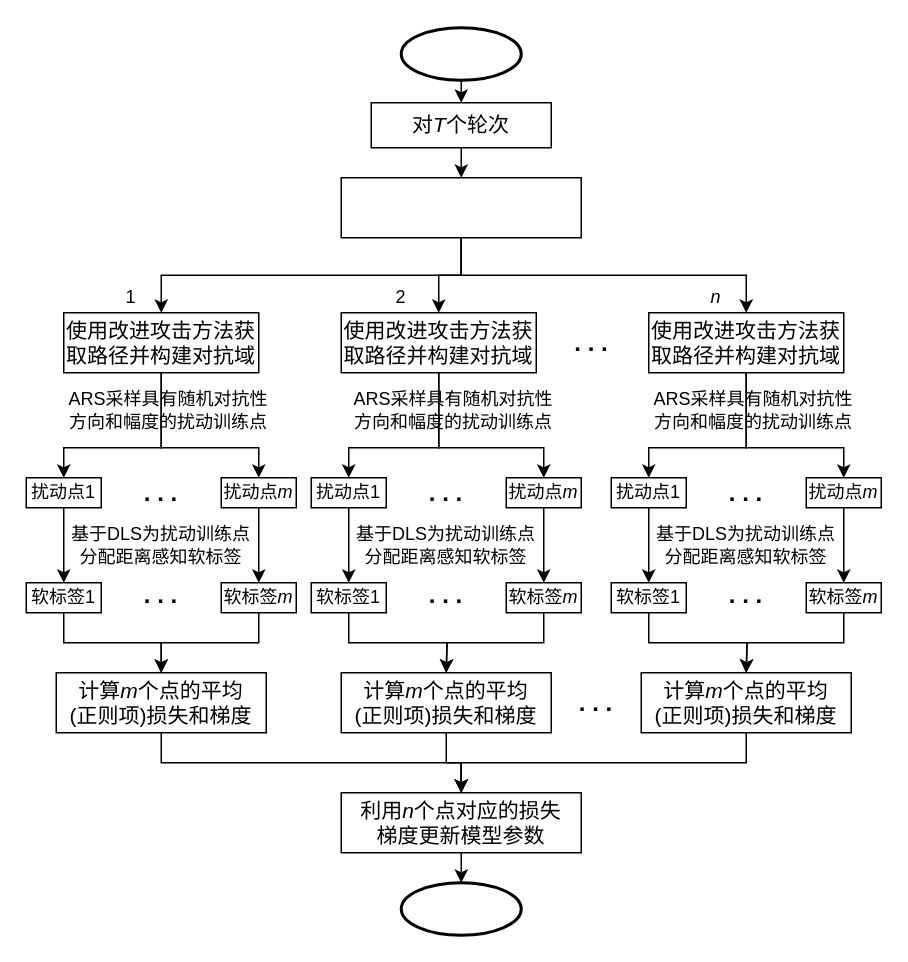
Some shapes in this 908 by 962 pixel diagram are drawn without their labels. The box of each missing label's shape, as (x1, y1, x2, y2) in pixels:
开始: (399, 26, 522, 81)
每次从数据集采样 n 个点作为最小批，共 M 个批次: (340, 176, 581, 238)
结束: (399, 880, 522, 936)
